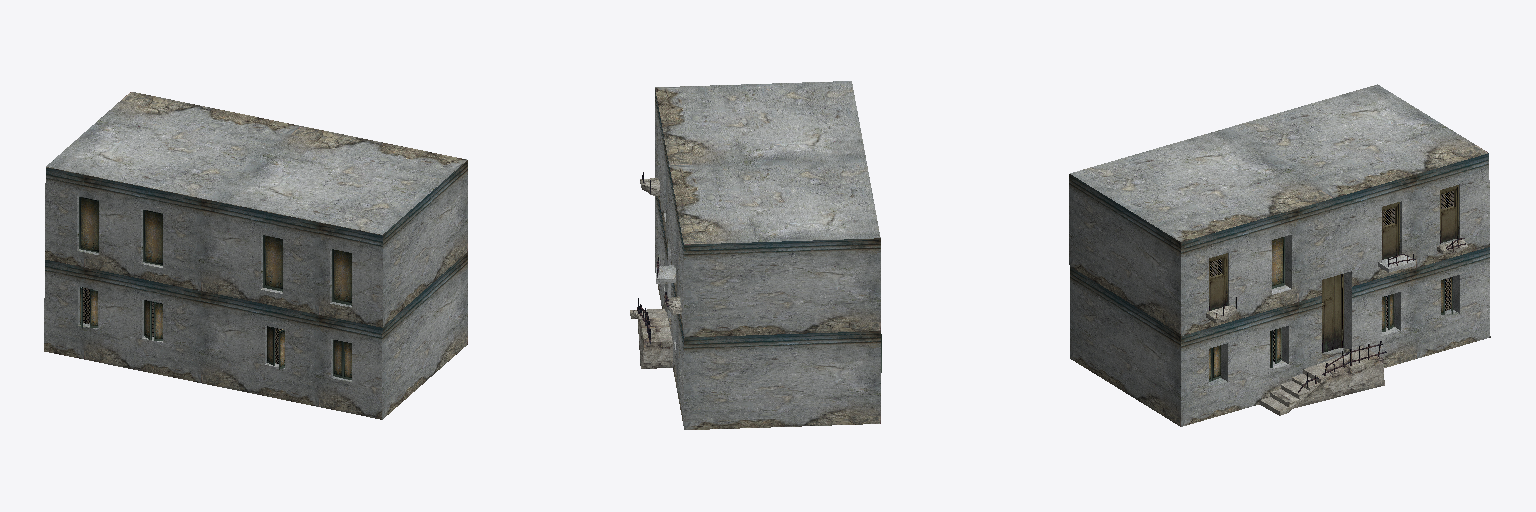
3 views of the same model, side by side, from view 1: azimuth 30°, elevation 25°; view 2: azimuth 150°, elevation 25°; view 3: azimuth 270°, elevation 25° (orthographic).
Size of the model in its own units: 299 by 164 by 336.
Materials: 6 (6 with a texture image).